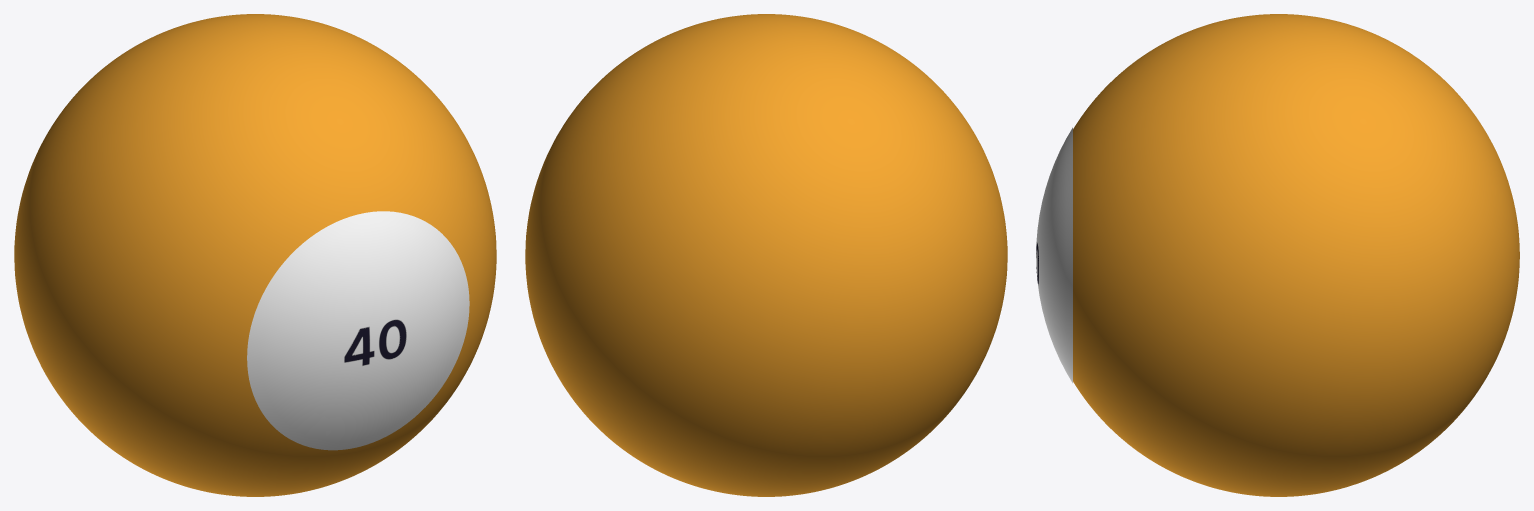
File: ball-40.glb
3 renders of one model, left to right at view 1: azimuth 30°, elevation 25°; view 2: azimuth 150°, elevation 25°; view 3: azimuth 270°, elevation 25°, orthographic.
Visible parts, largest first — view 1: Ball_40_Shell, Ball_40_Number_Disc; view 2: Ball_40_Shell; view 3: Ball_40_Shell, Ball_40_Number_Disc.
Part boxes in pixels (<box>): Ball_40_Shell: <box>14,14,496,496</box>; Ball_40_Number_Disc: <box>247,211,469,450</box>; Ball_40_Shell: <box>525,14,1007,496</box>; Ball_40_Shell: <box>1073,14,1519,496</box>; Ball_40_Number_Disc: <box>1036,127,1072,383</box>.
Bounding box in the file's own units: 1.84 × 1.84 × 1.84.
Materials: 2 (1 with a texture image).
